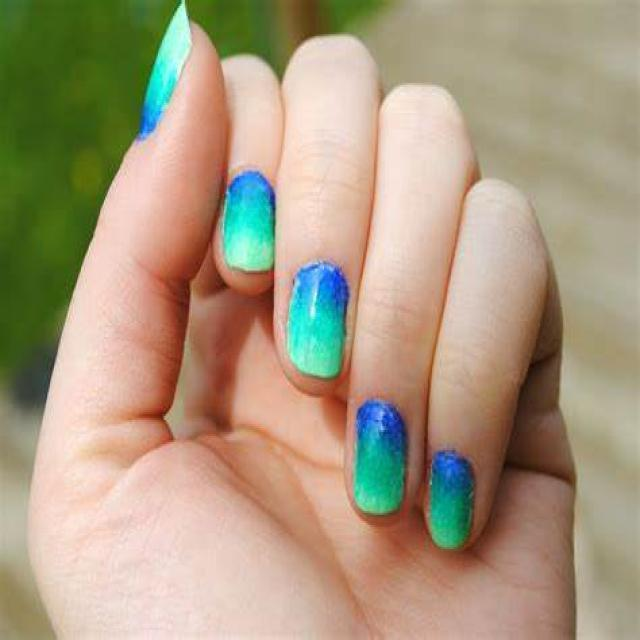Fingernail: (287, 262, 348, 378), (140, 3, 190, 136), (354, 401, 405, 514), (224, 171, 274, 272), (428, 452, 474, 548)
